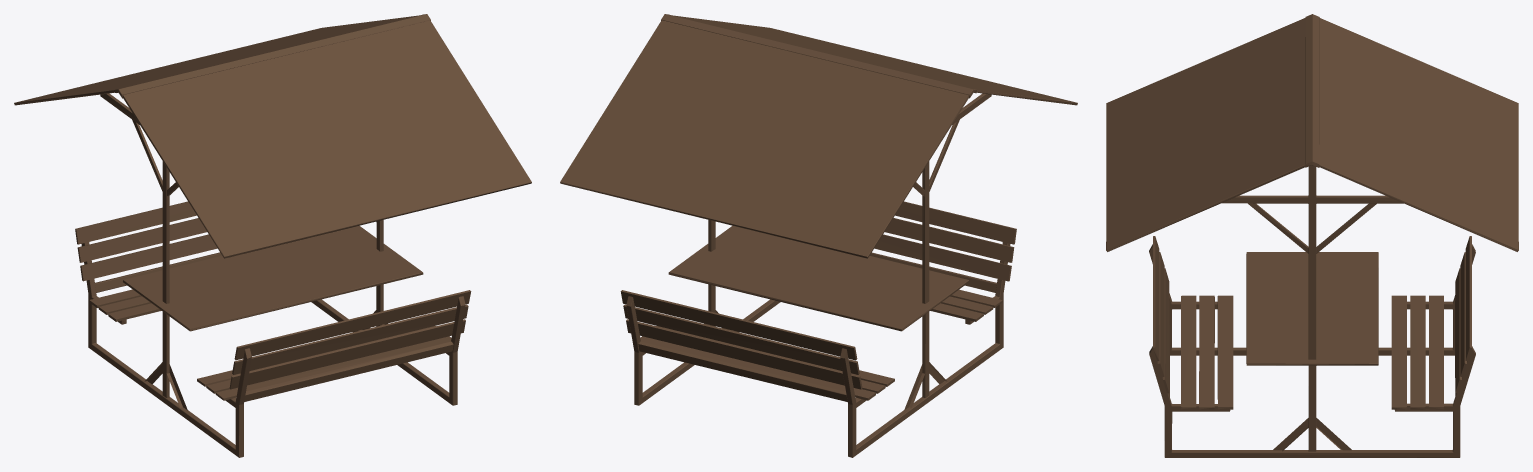
File: gazebo.lod1.glb
3 renders of one model, left to right at view 1: azimuth 30°, elevation 25°; view 2: azimuth 150°, elevation 25°; view 3: azimuth 270°, elevation 25°, orthographic. The views are drawn at different scales.
Parts seen in each view (by area): view 1: Object_4; view 2: Object_4; view 3: Object_4.
Part boxes in pixels (<box>): Object_4: <box>14,14,531,457</box>; Object_4: <box>560,14,1077,457</box>; Object_4: <box>1106,14,1518,457</box>.
Size of the model in its own units: 3.59 by 3.6 by 4.23.
